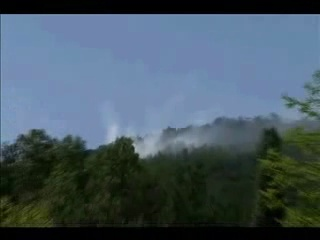smoke: (101, 91, 259, 162)
